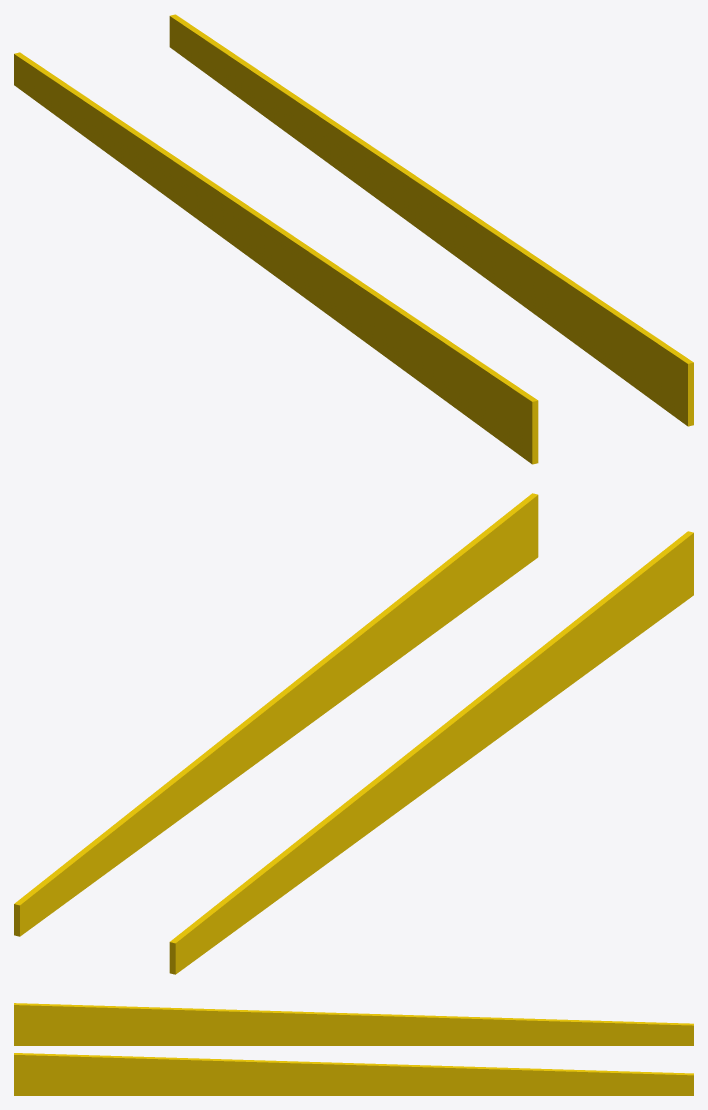
Rendered from wall.obj.
The picture shows the model from 3 angles, top to bottom: view 1: azimuth 30°, elevation 25°; view 2: azimuth 150°, elevation 25°; view 3: azimuth 270°, elevation 25°; orthographic projection. The views are drawn at different scales.
Visible parts, largest first — view 1: Mesh2 Model, Mesh1 Model; view 2: Mesh1 Model, Mesh2 Model; view 3: Mesh1 Model, Mesh2 Model.
Part boxes in pixels (left/top/right/bottom): Mesh2 Model: left=14, top=52, right=538, bottom=464; Mesh1 Model: left=169, top=14, right=693, bottom=426; Mesh1 Model: left=14, top=493, right=538, bottom=936; Mesh2 Model: left=169, top=531, right=693, bottom=974; Mesh1 Model: left=14, top=1053, right=693, bottom=1095; Mesh2 Model: left=14, top=1003, right=693, bottom=1045.
Size of the model in its own units: 27 by 10 by 150.
